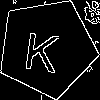K: (22, 23, 62, 73)
